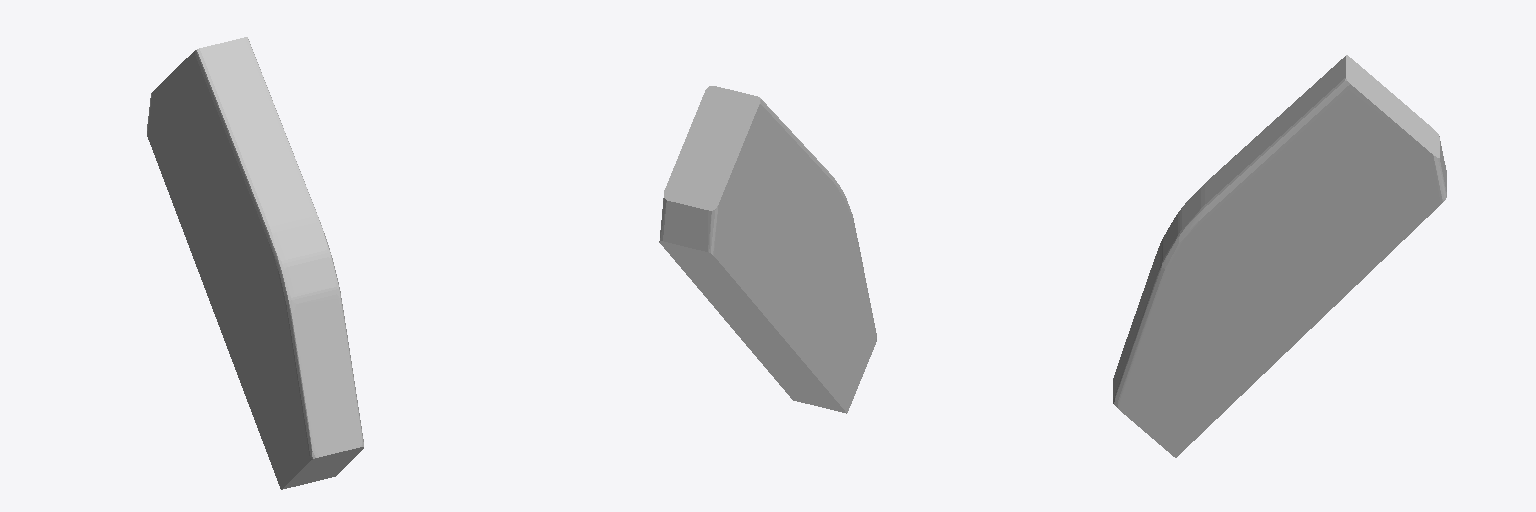
The model's file is Carbon_Mov_Finger_021_v1_1_mesh_collision_18.obj.
3 renders of one model, left to right at view 1: azimuth 30°, elevation 25°; view 2: azimuth 150°, elevation 25°; view 3: azimuth 270°, elevation 25°, orthographic.
Size of the model in its own units: 0.0033 by 0.0217 by 0.0174.